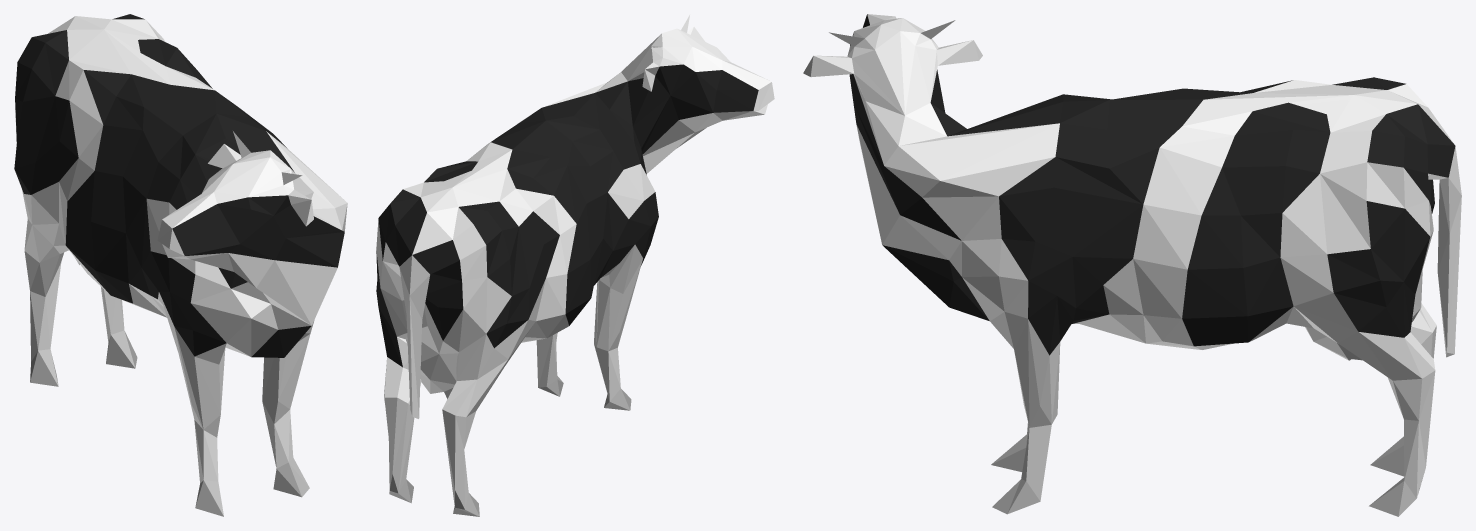
Rendered from animal_001.glb.
3 views of the same model, side by side, from view 1: azimuth 30°, elevation 25°; view 2: azimuth 150°, elevation 25°; view 3: azimuth 270°, elevation 25° (orthographic). The views are drawn at different scales.
Parts seen in each view (by area): view 1: animal_001; view 2: animal_001; view 3: animal_001.
Boxes of the visible parts, x1,y1,x2,y2 form: animal_001: (14,14,347,516); animal_001: (376,15,774,516); animal_001: (803,14,1461,516).
Bounding box in the file's own units: 2.08 × 3.34 × 4.5.
Materials: 1 (1 with a texture image).
